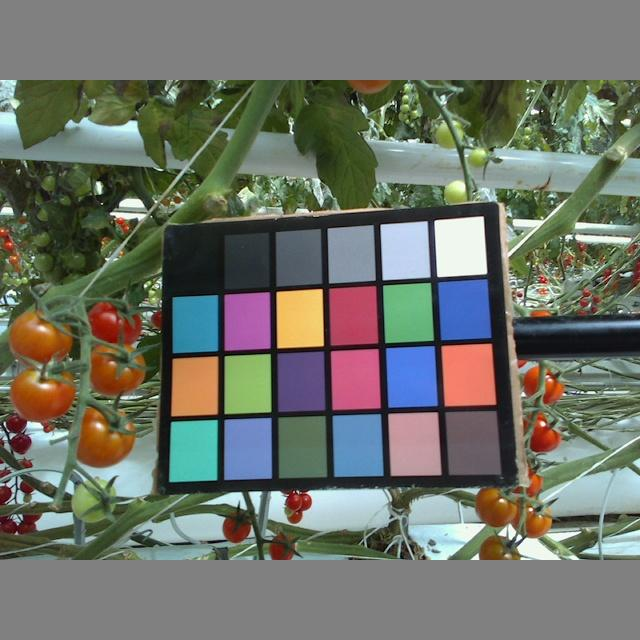green: (73, 477, 116, 523), (443, 178, 474, 205), (434, 119, 464, 145), (469, 147, 487, 167)
pink: (67, 405, 137, 468), (12, 363, 72, 421), (11, 309, 70, 362), (87, 343, 145, 395), (526, 409, 563, 454), (525, 366, 566, 406), (475, 488, 517, 527), (470, 537, 528, 560), (522, 500, 552, 540)
red: (85, 301, 145, 346), (224, 514, 251, 540), (271, 536, 294, 560), (287, 511, 303, 523), (287, 493, 300, 507), (301, 492, 312, 508)
